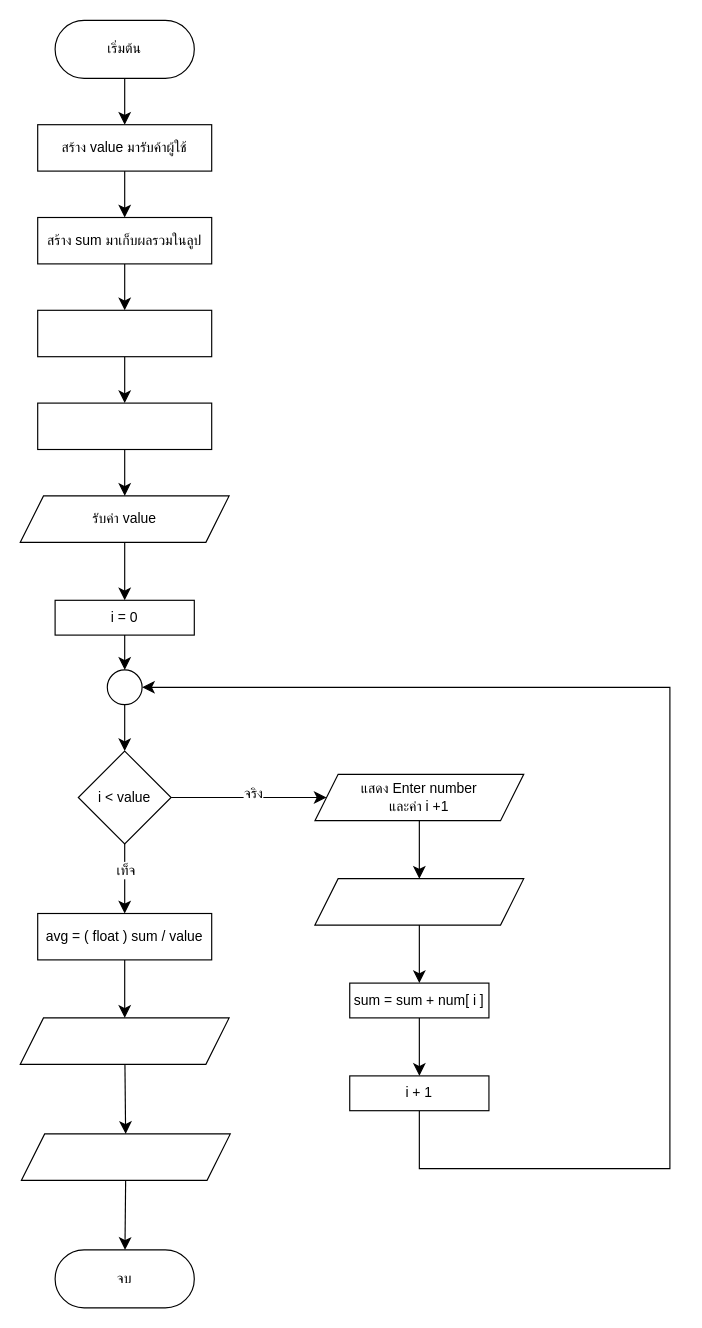
The diagram is 702 pixels wide and 1328 high, and some of its shapes have lost their labels. Here are the shapes that lost their labels. From the top down, the centre of each, then its label:
At [124,333]: "สร้าง num เก็บค่าเป็นอาเรย์".
At [124,425]: "สร้าง avg เก็บค่าเฉลี่ยเป็นทศนิยม".
At [419,901]: "รับค่า num เก็บไว้ในตำแหน่ง i".
At [124,1040]: "แสดงค่า sum".
At [125,1156]: "แสดงค่า avg".
